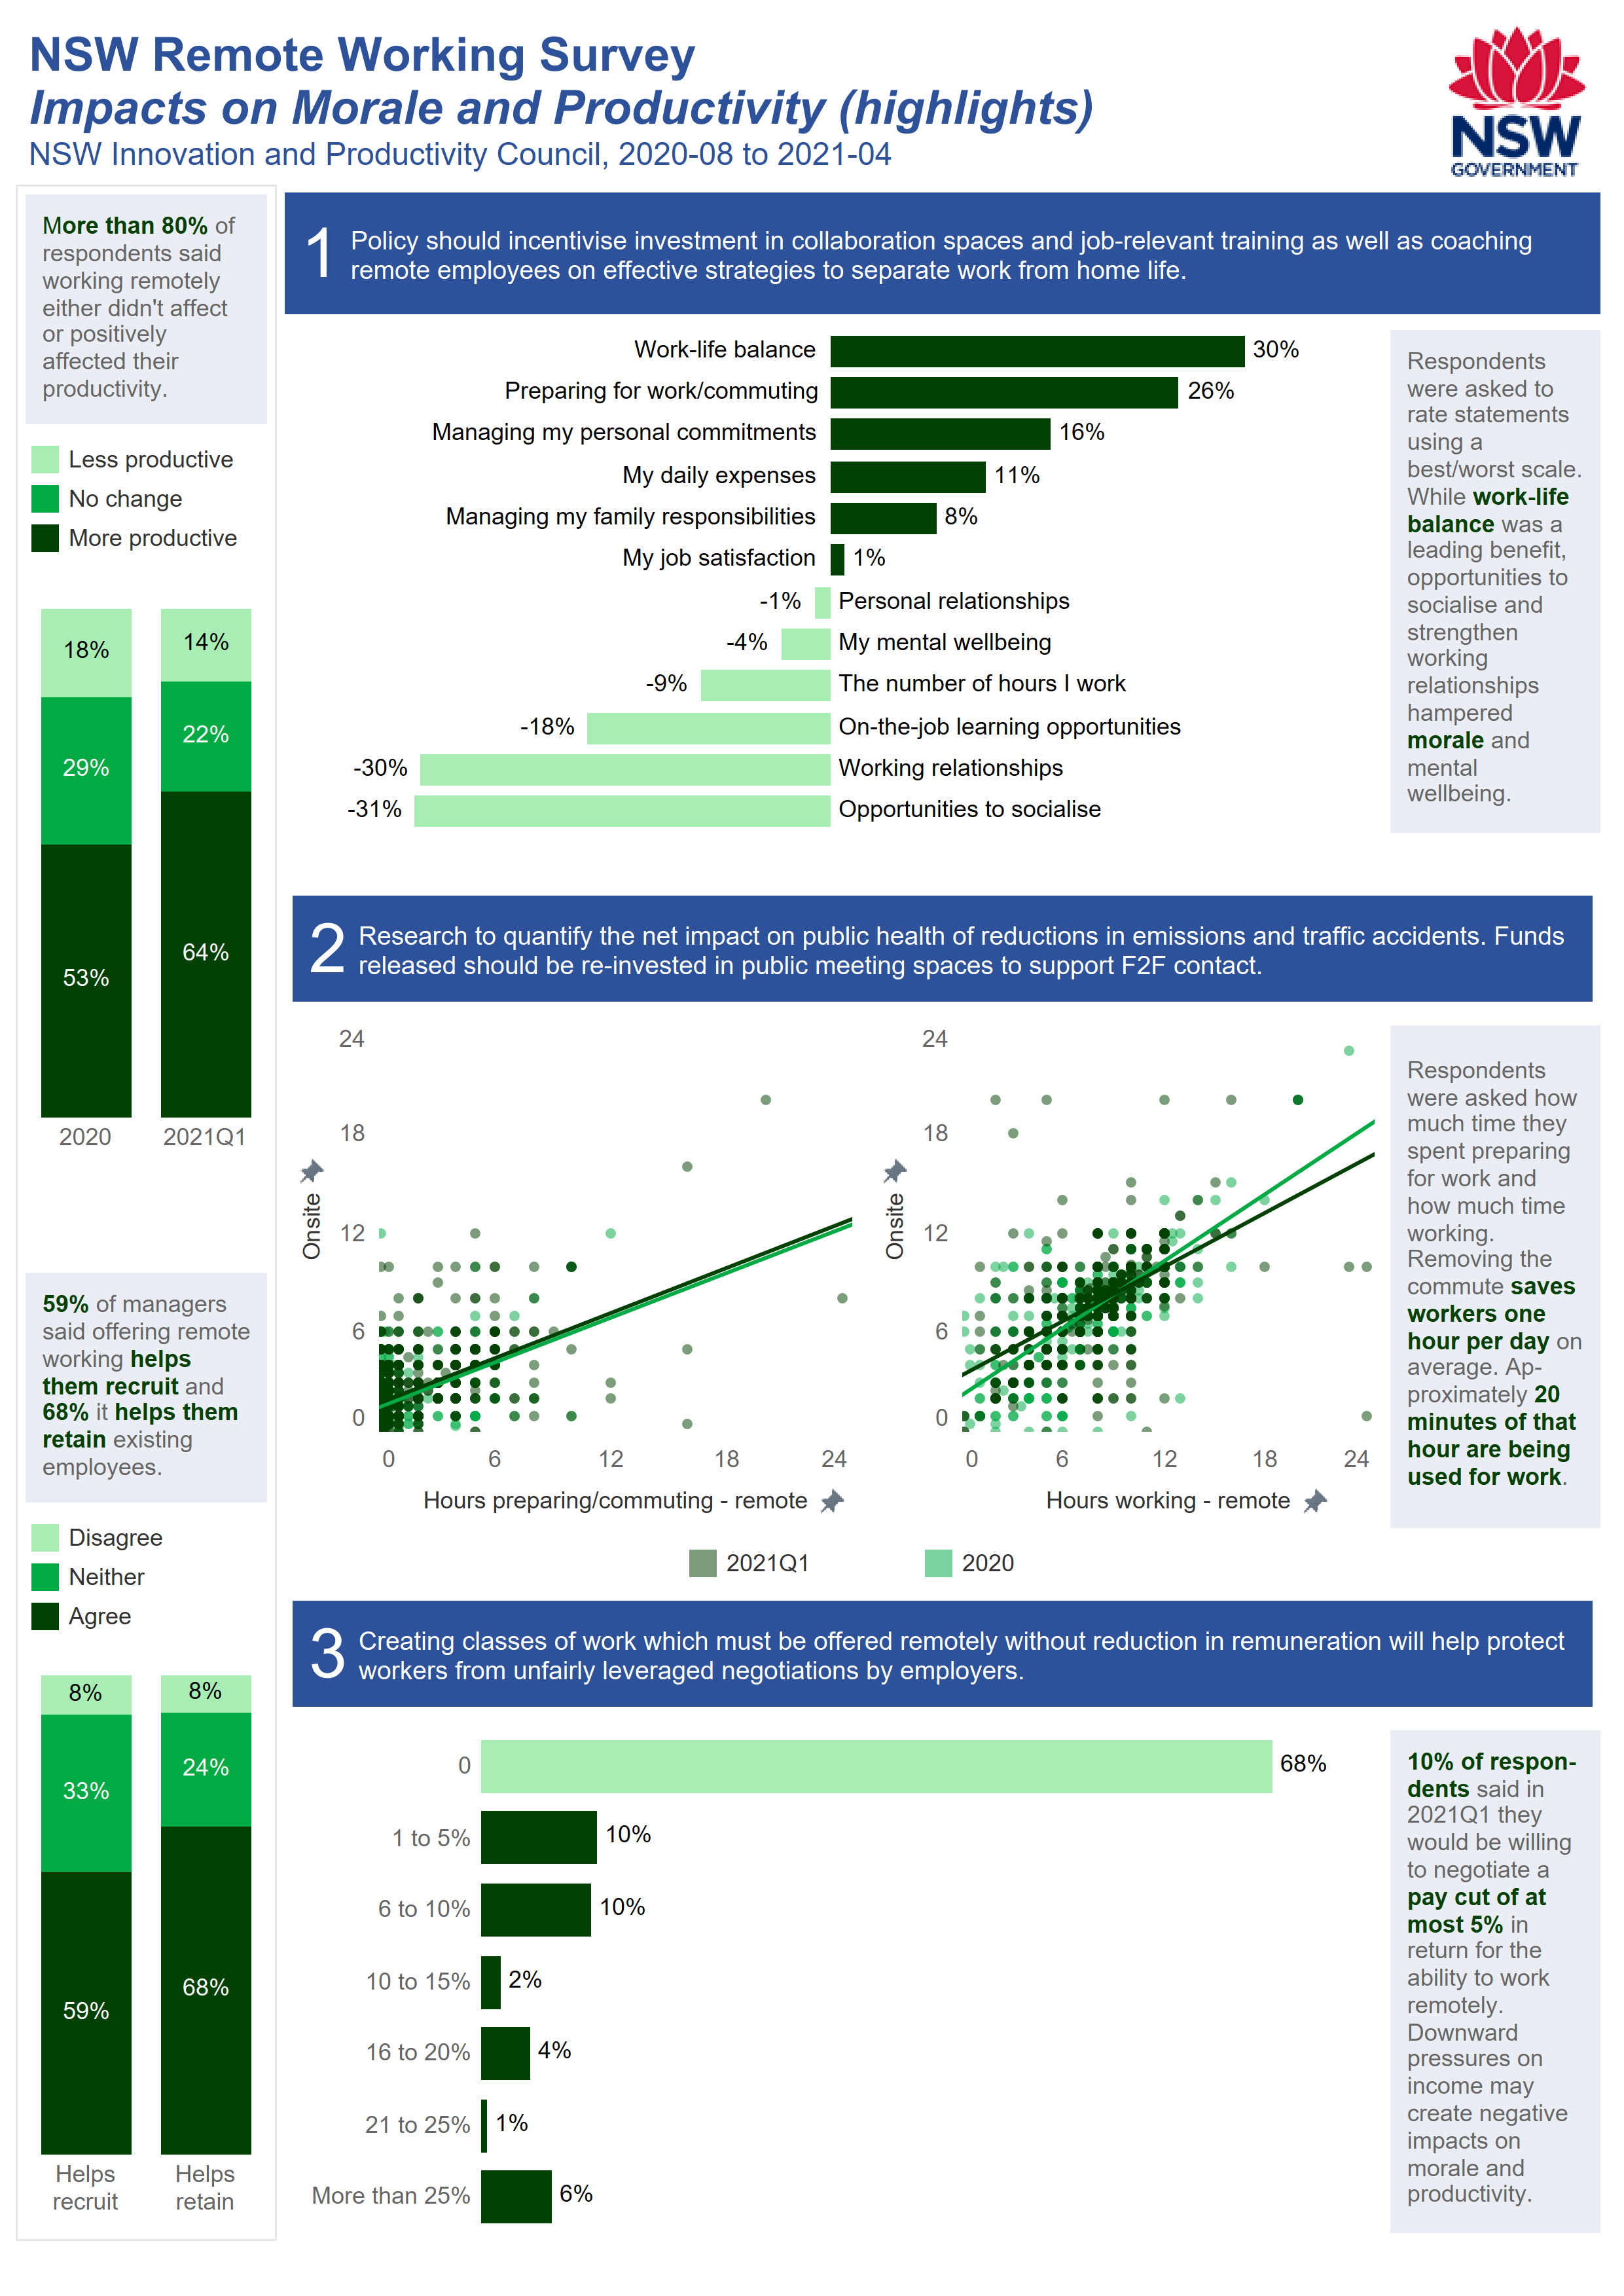

The page's visual inventory and layout, read from the dashboard file:
{"tool":"tableau","page":{"name":"Highlights from NSW Remote Working Survey","canvas":[827,1169],"ordinal":0},"visuals":[{"type":"text","box":[8,8,612,86]},{"type":"blank","box":[620,8,106,86]},{"type":"image","param":"C:/Users/owen.price/Documents/Me/ProtonDrive/Blog/Maven Analytics Remote Working","box":[726,8,93,86]},{"type":"text","box":[141,94,35,70]},{"type":"text","box":[176,94,643,70]},{"type":"text","box":[9,95,131,125]},{"type":"worksheet","title":"Remote vs Onsite - best","mark":"Bar","rows":["value"],"cols":["Calculation_1636495532967403529","Calculation_1636495532972892171"],"box":[141,164,563,264]},{"type":"text","box":[704,164,115,264]},{"type":"legend","title":"Productivity - self","param":"[federated.0as2p3s031j9hu15ybt2s0snzcsx].[Remote Productivity Per Hour (group)]","box":[9,220,131,73]},{"type":"worksheet","title":"Productivity - self","mark":"Automatic","cols":["year"],"box":[9,293,131,300]},{"type":"blank","box":[141,428,678,20]},{"type":"text","box":[145,452,35,62]},{"type":"text","box":[180,452,635,62]},{"type":"worksheet","title":"Remote vs Onsite - time spent on prep","mark":"Automatic","rows":["onsite_time_spent_prep"],"cols":["remote_time_spent_prep"],"box":[141,518,297,264]},{"type":"worksheet","title":"Remote vs Onsite - time spent working","mark":"Automatic","rows":["onsite_time_spent_working"],"cols":["remote_time_spent_working"],"box":[438,518,266,264]},{"type":"text","box":[704,518,115,264]},{"type":"blank","box":[9,593,131,51]},{"type":"text","box":[9,644,131,125]},{"type":"legend","title":"Remote helps recruit","param":"[federated.0zjxaf41tl4uus1eyq6vw12zwglt].[Value (group)]","box":[9,769,131,68]},{"type":"blank","box":[141,782,203,25]},{"type":"legend","title":"Remote vs Onsite - time spent on prep","param":"[federated.0as2p3s031j9hu15ybt2s0snzcsx].[none:year:ok]","box":[344,782,265,25]},{"type":"blank","box":[609,782,210,25]},{"type":"text","box":[145,811,35,62]},{"type":"text","box":[180,811,635,62]},{"type":"worksheet","title":"Remote helps recruit","mark":"Automatic","cols":["var_group_2"],"box":[9,837,131,300]},{"type":"worksheet","title":"Pay cut","mark":"Automatic","cols":["Calculation1"],"box":[141,877,563,264]},{"type":"text","box":[704,877,115,264]}]}

Visuals, with their boxes in screenshot pixels (x1, y1, x2, y2), scaled from the page's 827x1169 canvas onto the 1624x2296 screenshot:
text: bbox=(16, 16, 1218, 185)
blank: bbox=(1218, 16, 1426, 185)
image: bbox=(1426, 16, 1608, 185)
text: bbox=(277, 185, 346, 322)
text: bbox=(346, 185, 1608, 322)
text: bbox=(18, 187, 275, 432)
"Remote vs Onsite - best" worksheet (Bar marks): bbox=(277, 322, 1382, 841)
text: bbox=(1382, 322, 1608, 841)
"Productivity - self" legend: bbox=(18, 432, 275, 575)
"Productivity - self" worksheet: bbox=(18, 575, 275, 1165)
blank: bbox=(277, 841, 1608, 880)
text: bbox=(285, 888, 353, 1010)
text: bbox=(353, 888, 1600, 1010)
"Remote vs Onsite - time spent on prep" worksheet: bbox=(277, 1017, 860, 1536)
"Remote vs Onsite - time spent working" worksheet: bbox=(860, 1017, 1382, 1536)
text: bbox=(1382, 1017, 1608, 1536)
blank: bbox=(18, 1165, 275, 1265)
text: bbox=(18, 1265, 275, 1510)
"Remote helps recruit" legend: bbox=(18, 1510, 275, 1644)
blank: bbox=(277, 1536, 676, 1585)
"Remote vs Onsite - time spent on prep" legend: bbox=(676, 1536, 1196, 1585)
blank: bbox=(1196, 1536, 1608, 1585)
text: bbox=(285, 1593, 353, 1715)
text: bbox=(353, 1593, 1600, 1715)
"Remote helps recruit" worksheet: bbox=(18, 1644, 275, 2233)
"Pay cut" worksheet: bbox=(277, 1722, 1382, 2241)
text: bbox=(1382, 1722, 1608, 2241)
